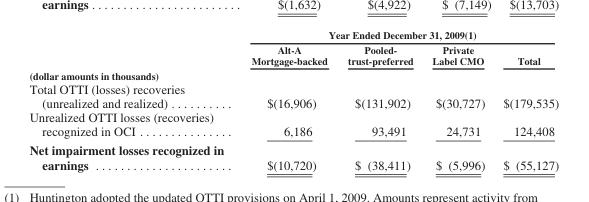table: (28, 28, 558, 171)
table column: (28, 28, 236, 171), (236, 28, 337, 171), (337, 28, 422, 171), (422, 28, 493, 171), (493, 28, 558, 171)
table column header: (28, 28, 558, 67)
table projected row header: (28, 67, 558, 81)
table row: (28, 109, 558, 140), (28, 140, 558, 171), (28, 81, 558, 109), (28, 42, 558, 67), (28, 28, 558, 42), (28, 67, 558, 81)
table spanning cell: (236, 28, 558, 42)
